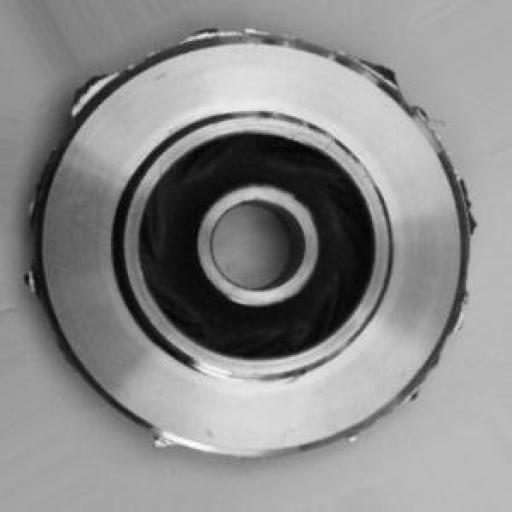defect: (29, 28, 496, 464)
